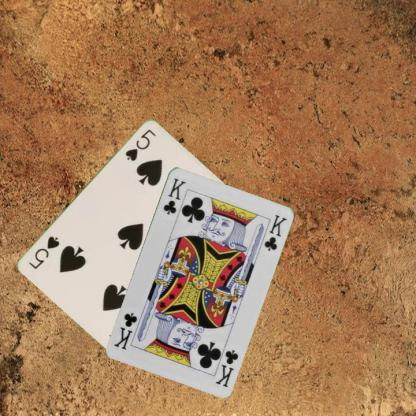5s: (123, 126, 157, 162)
Kc: (212, 346, 240, 388), (160, 175, 187, 216)
